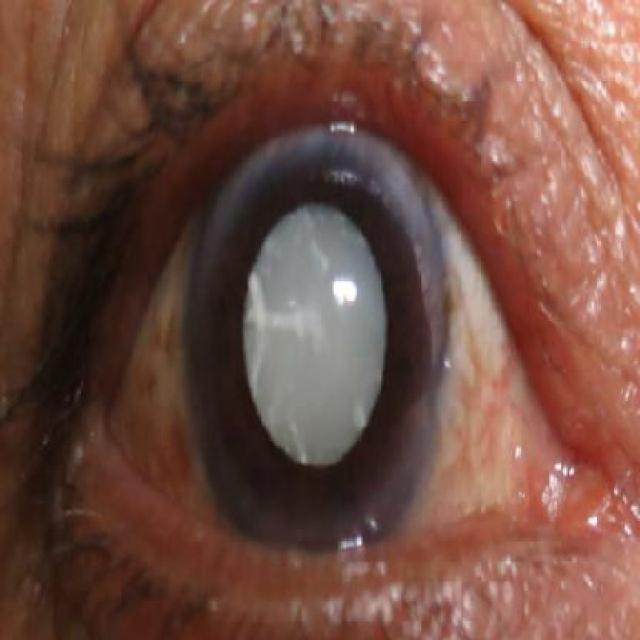Cataract: (179, 127, 445, 549)
